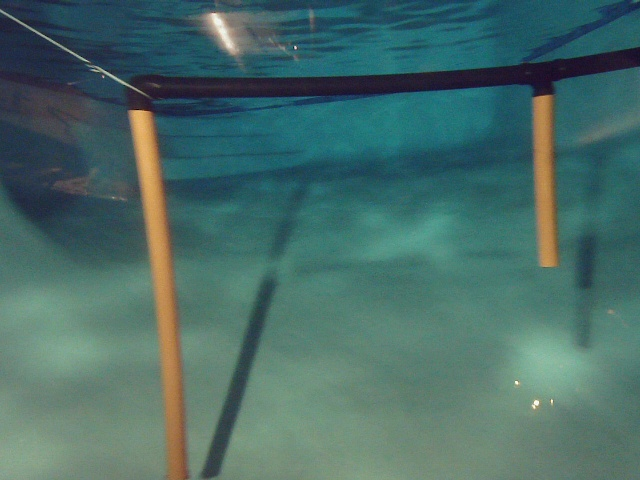Gate: (122, 105, 196, 480), (531, 90, 562, 280)
